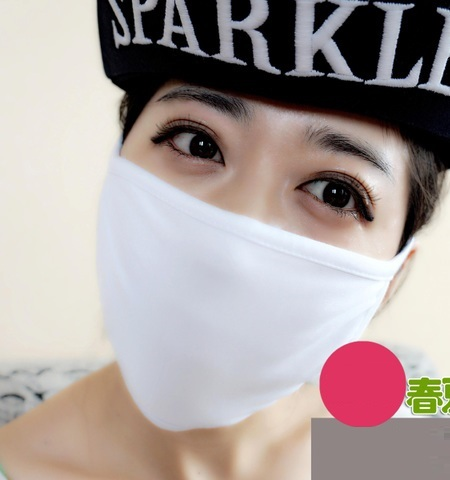face_mask: (102, 12, 431, 424)
